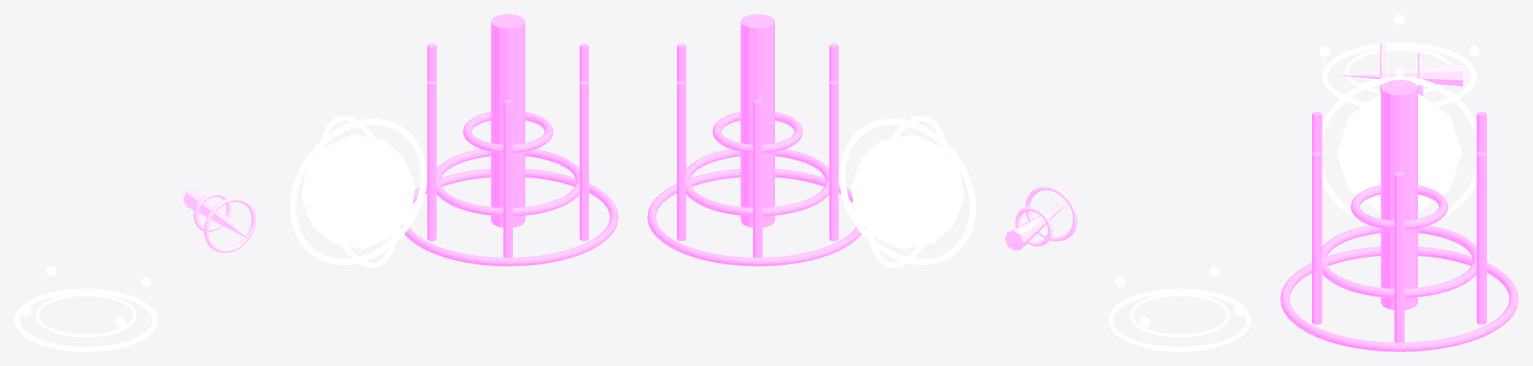
The model's file is michie_skills_vfx.glb.
3 views of the same model, side by side, from view 1: azimuth 30°, elevation 25°; view 2: azimuth 150°, elevation 25°; view 3: azimuth 270°, elevation 25° (orthographic). The views are drawn at different scales.
Visible parts, largest first — view 1: VFX_Ultimate, VFX_Skill_2, VFX_Passive, VFX_Skill_1; view 2: VFX_Ultimate, VFX_Skill_2, VFX_Passive, VFX_Skill_1; view 3: VFX_Ultimate, VFX_Skill_2, VFX_Passive, VFX_Skill_1.
Boxes of the visible parts, box(x1,y1,x2,y2) form: VFX_Ultimate: box(400, 14, 618, 266); VFX_Skill_2: box(290, 115, 426, 268); VFX_Passive: box(14, 266, 157, 351); VFX_Skill_1: box(183, 188, 256, 252); VFX_Ultimate: box(647, 14, 865, 266); VFX_Skill_2: box(839, 115, 975, 268); VFX_Passive: box(1108, 266, 1251, 351); VFX_Skill_1: box(1005, 185, 1077, 250); VFX_Ultimate: box(1280, 79, 1518, 351); VFX_Skill_2: box(1322, 68, 1476, 220); VFX_Passive: box(1319, 14, 1479, 106); VFX_Skill_1: box(1338, 43, 1462, 95).
Bounding box in the file's own units: 8.55 × 2.88 × 2.81.
